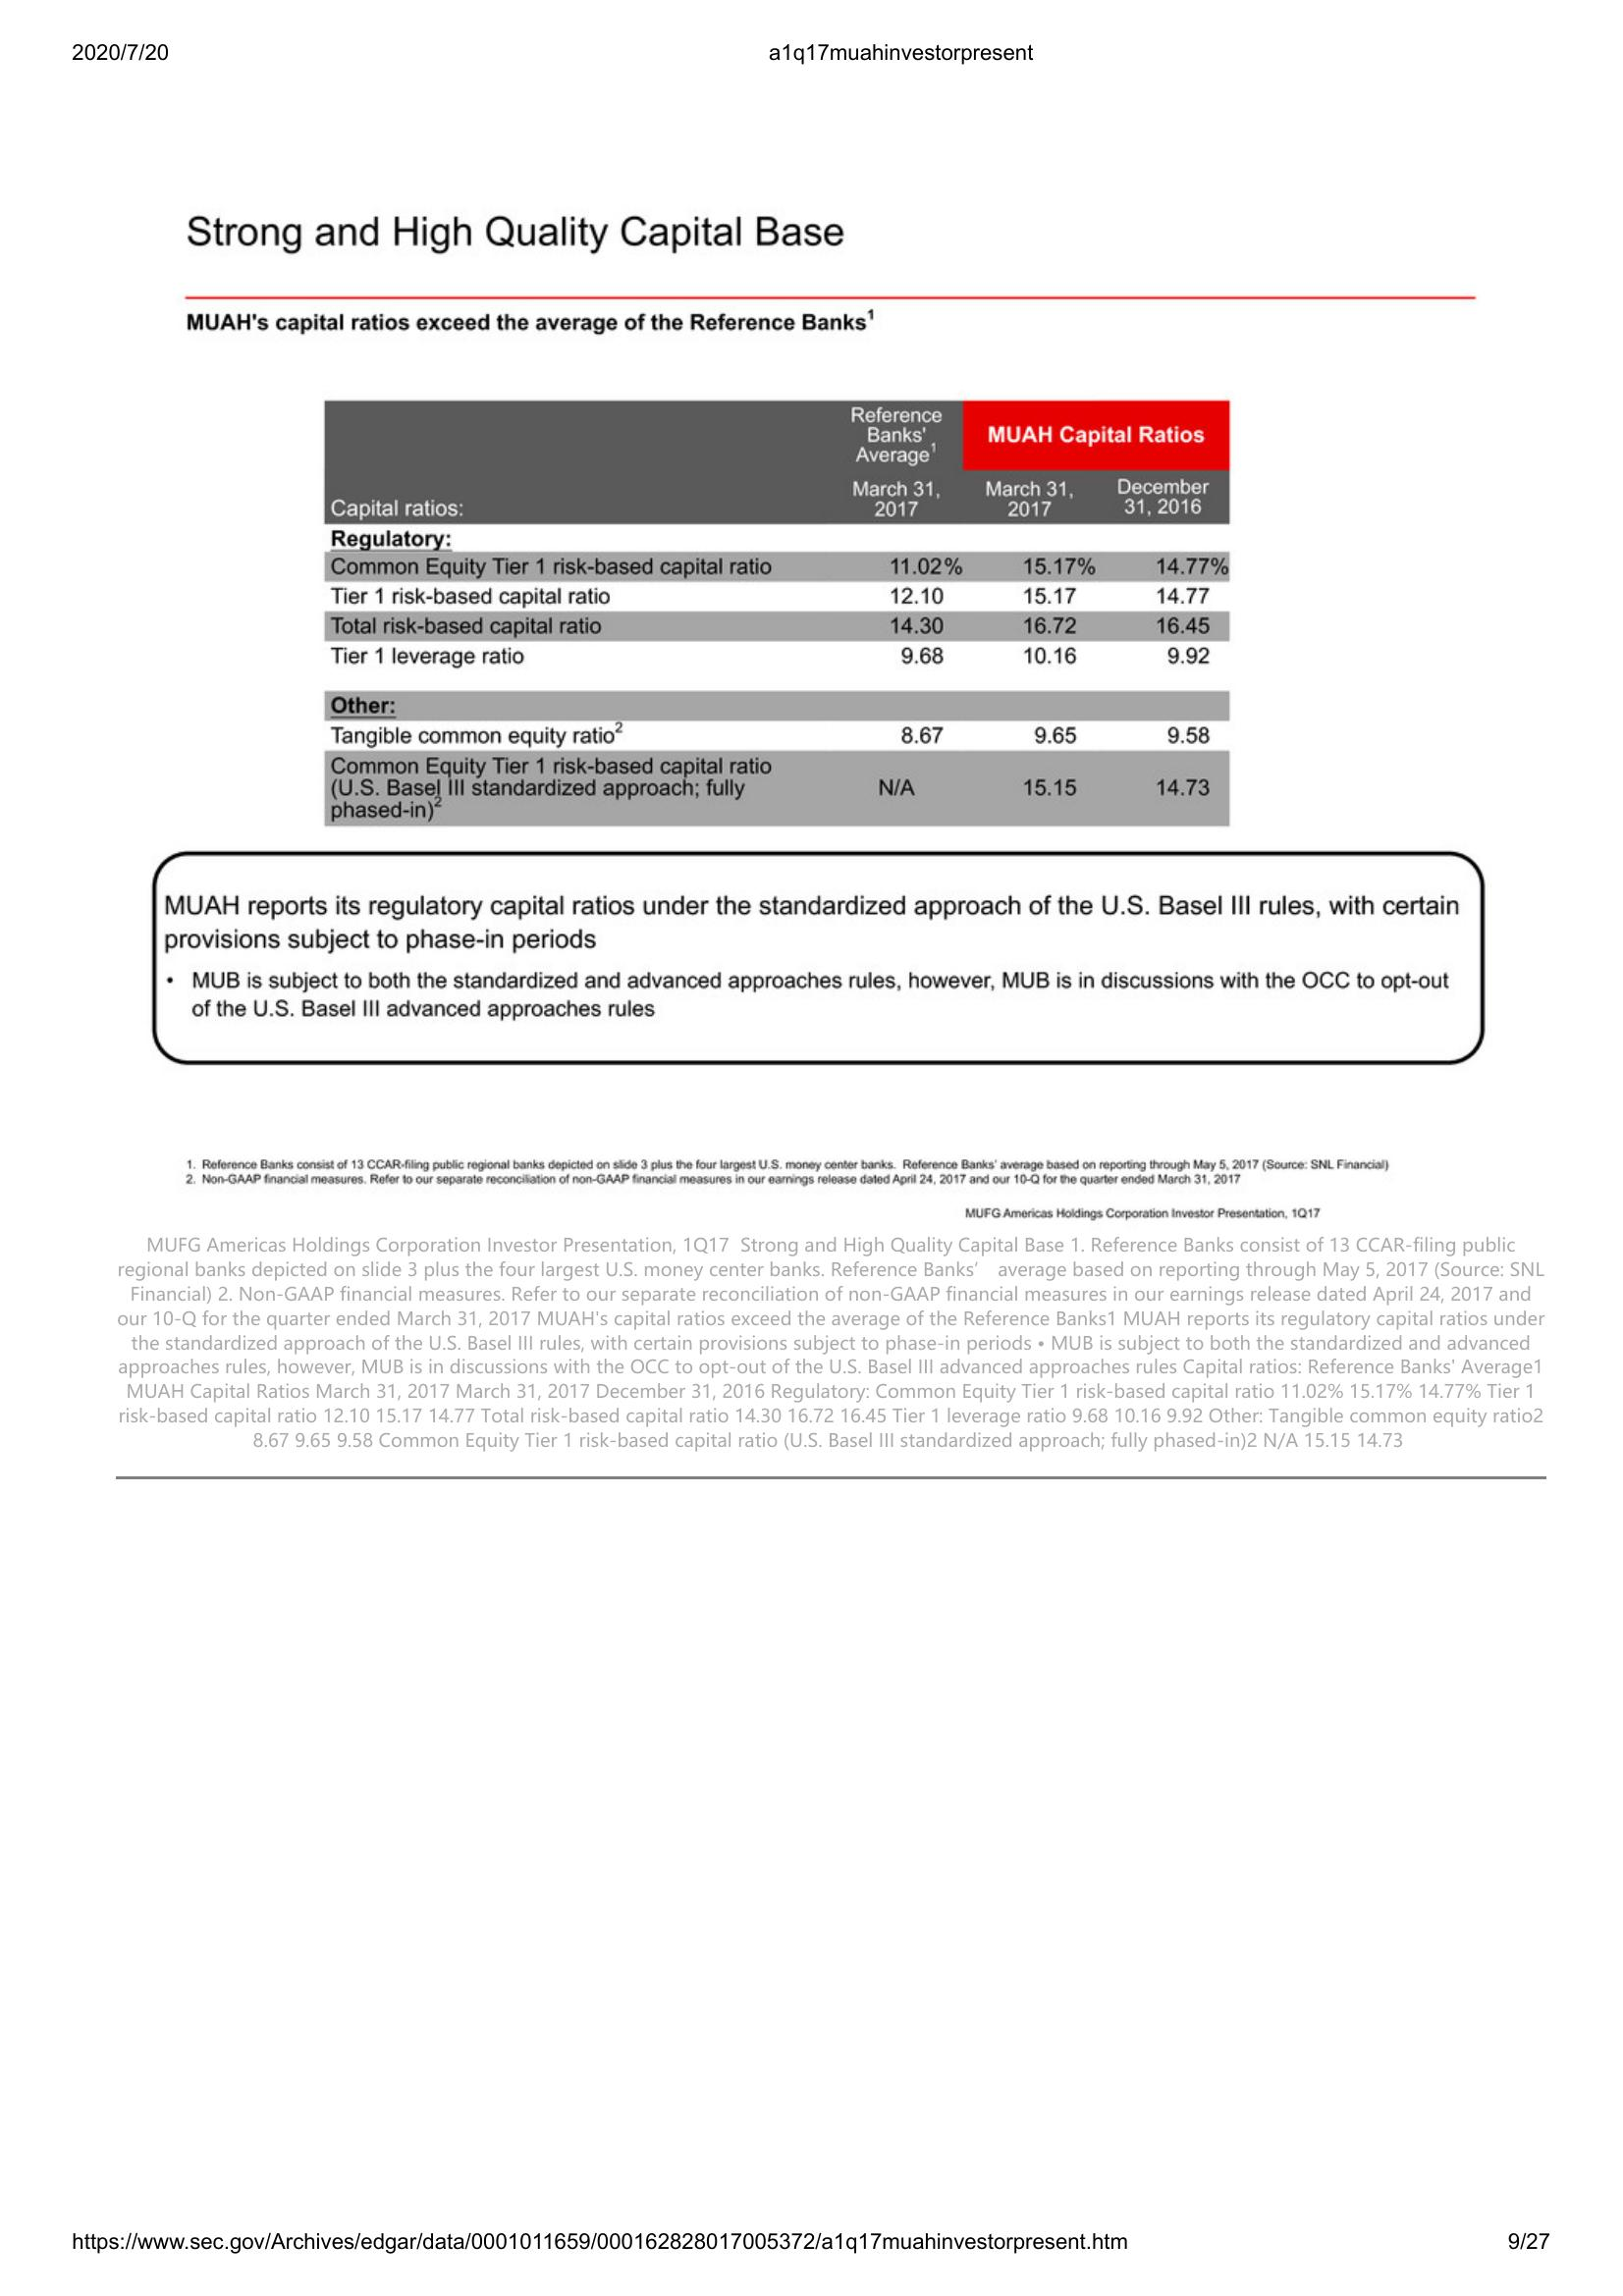table: (320, 397, 1235, 834)
